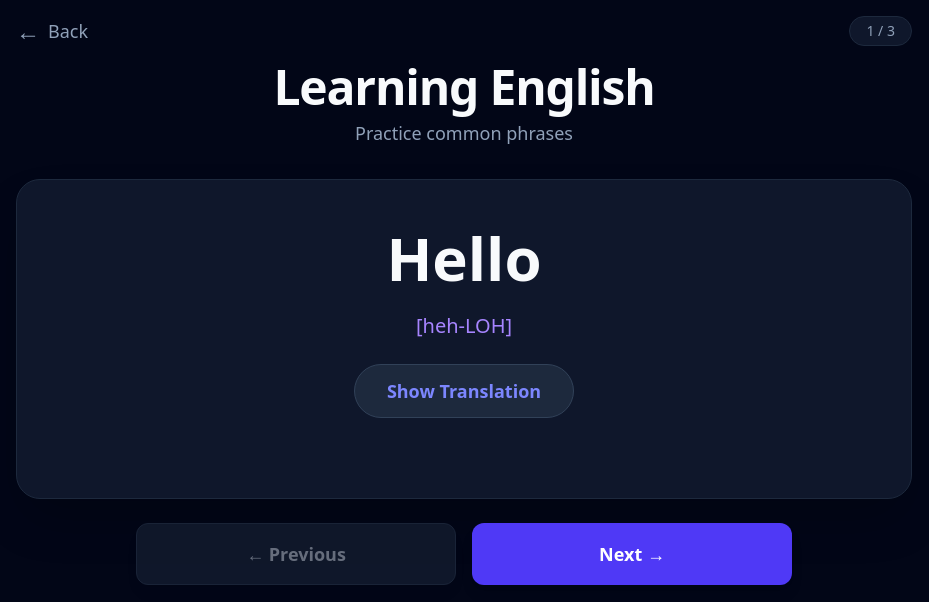
Test: Learning › disables next button on last phrase
Note: Navigate to last phrase
Click the button with aria-label "Next phrase" at (632, 554), box [472,523,792,585]
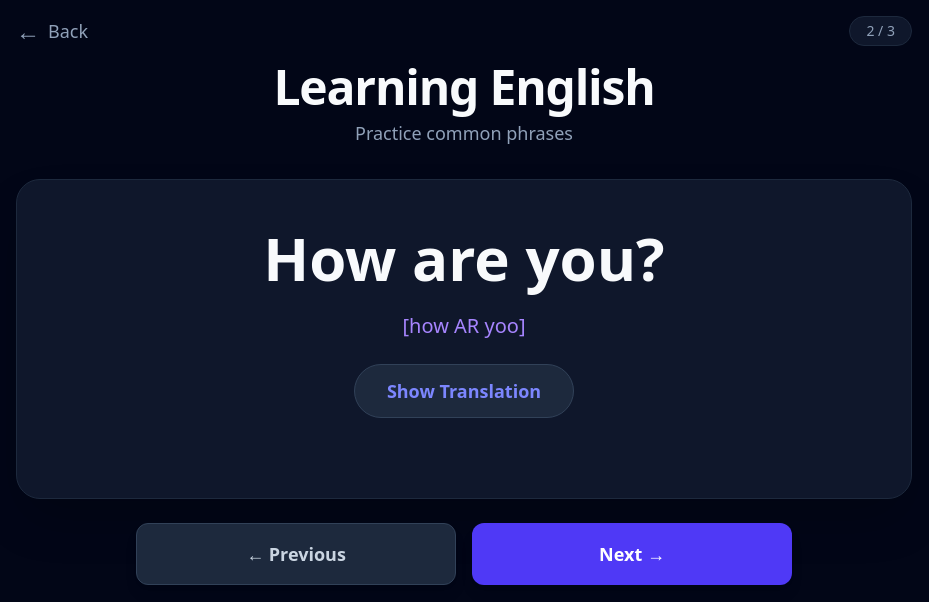
Click the button with aria-label "Next phrase" at (632, 554), box [472,523,792,585]
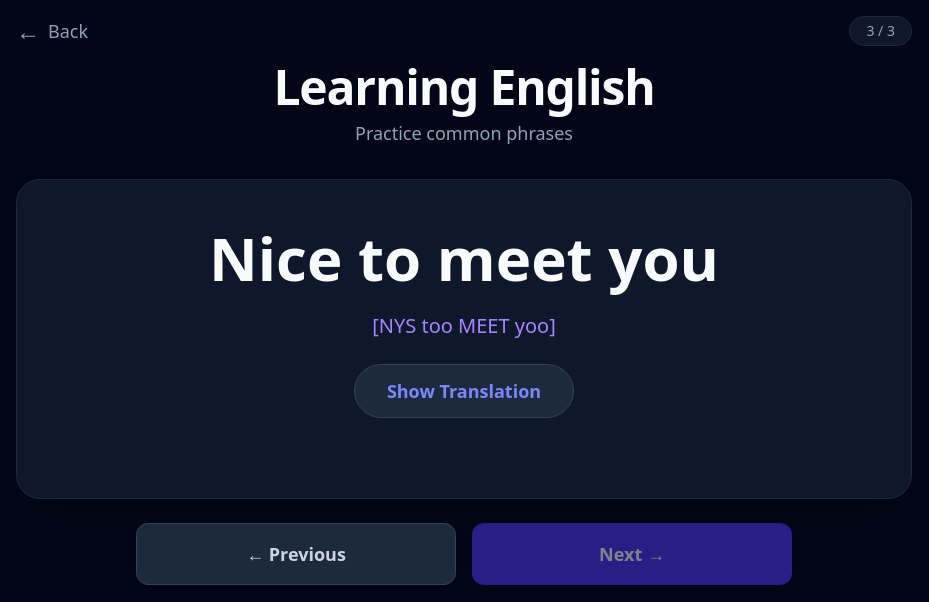
Expected: the button with aria-label "Next phrase" is disabled, [472,523,792,585]
